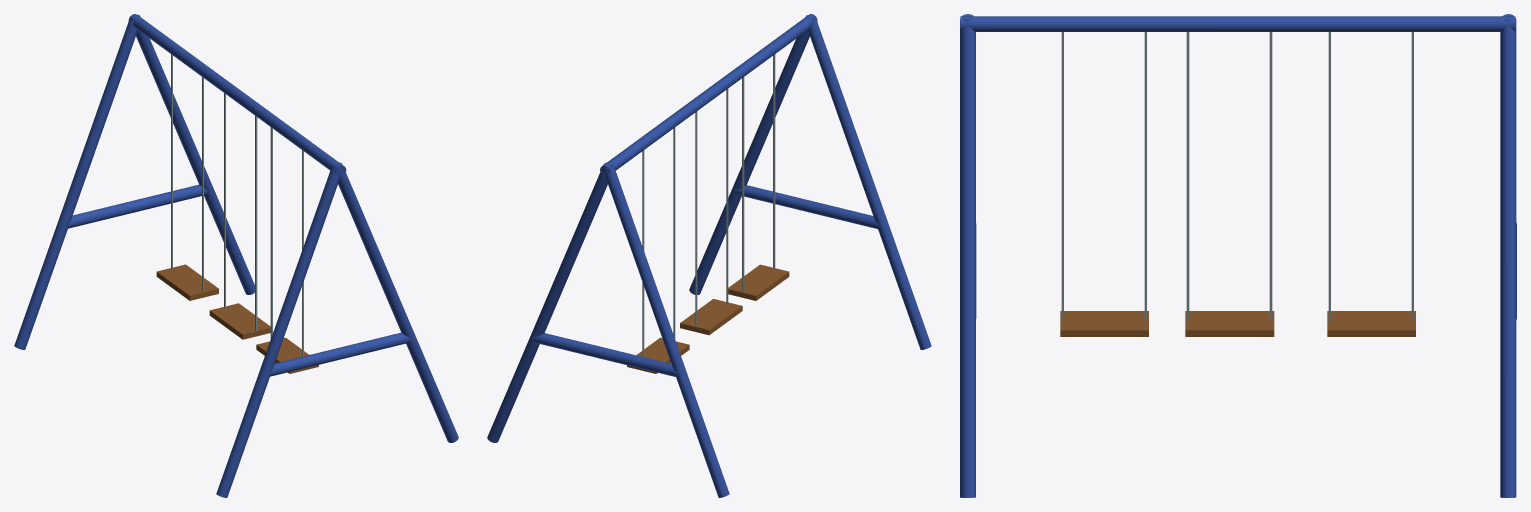
File: playground2.obj
3 renders of one model, left to right at view 1: azimuth 30°, elevation 25°; view 2: azimuth 150°, elevation 25°; view 3: azimuth 270°, elevation 25°, orthographic. The views are drawn at different scales.
Visible parts, largest first — view 1: k2, k6, k3; view 2: k2, k3, k6; view 3: k2, k6, k3.
Part boxes in pixels (x1,y1,x2,y2): k2: (14,14,458,497); k6: (156,264,318,373); k3: (171,54,303,356); k2: (487,14,931,497); k3: (642,54,775,356); k6: (627,264,789,373); k2: (960,14,1516,497); k6: (1060,311,1415,336); k3: (1061,32,1413,320).
Size of the model in its own units: 141 by 170 by 211.
